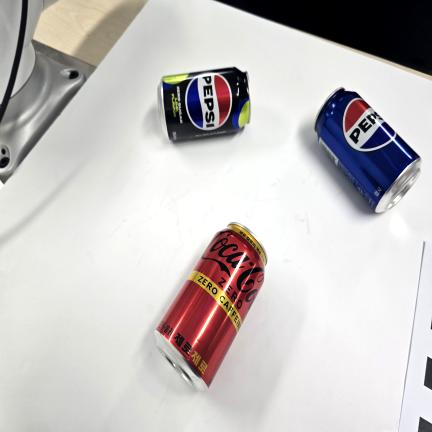can_coke_decaf: (154, 217, 269, 393)
can_pepsi: (313, 85, 422, 215)
can_pepsi_zero: (157, 66, 253, 139)
